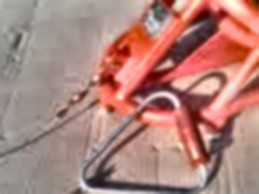chock: (93, 0, 259, 149)
